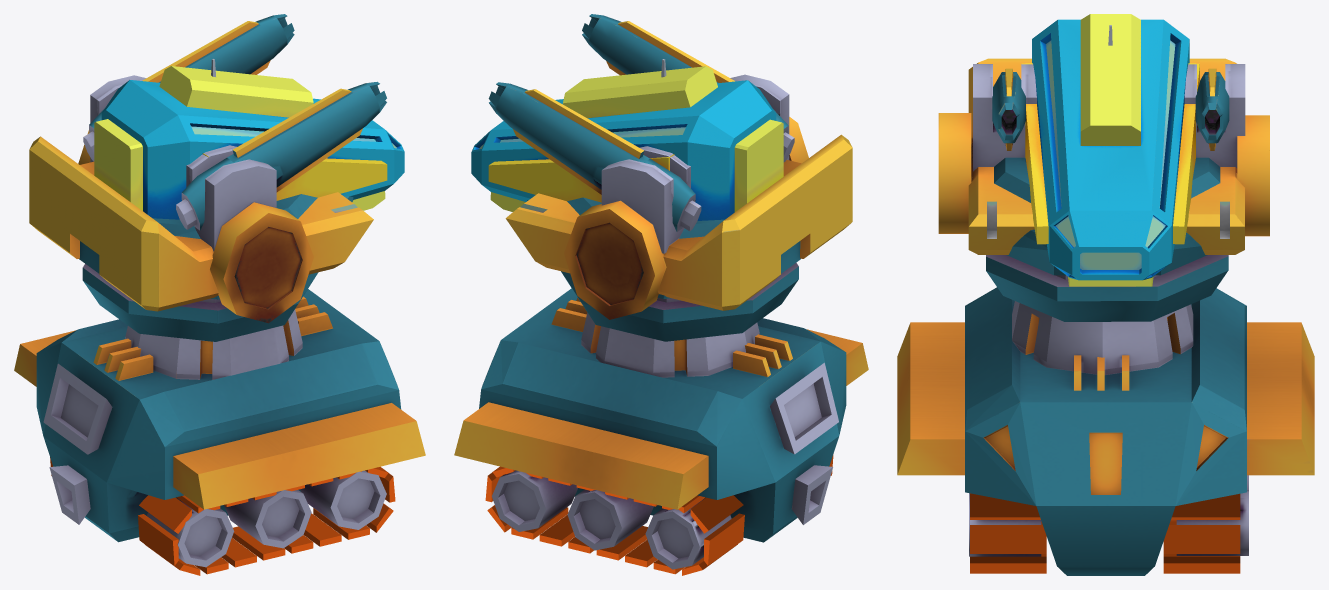
Rendered from Player_Idle_1_Upgrade7.obj.
3 views of the same model, side by side, from view 1: azimuth 30°, elevation 25°; view 2: azimuth 150°, elevation 25°; view 3: azimuth 270°, elevation 25° (orthographic). The views are drawn at different scales.
Parts seen in each view (by area): view 1: Object008, Object014, Box009, Box017; view 2: Object008, Object014, Box009, Box016; view 3: Object008, Box016, Box017, Object014, Box009.
Boxes of the visible parts, x1,y1,x2,y2 form: Object008: [14, 66, 425, 542]; Object014: [83, 14, 386, 230]; Box009: [147, 470, 386, 567]; Box017: [138, 466, 395, 575]; Object008: [454, 66, 868, 542]; Object014: [488, 14, 794, 231]; Box009: [492, 470, 731, 569]; Box016: [485, 466, 744, 575]; Object008: [897, 14, 1314, 575]; Box016: [1163, 493, 1240, 573]; Box017: [970, 493, 1046, 573]; Object014: [992, 68, 1229, 150]; Box009: [969, 475, 1248, 556].
Bounding box in the file's own units: 65.77 × 86.57 × 66.14.
4 materials, 2 textured.
